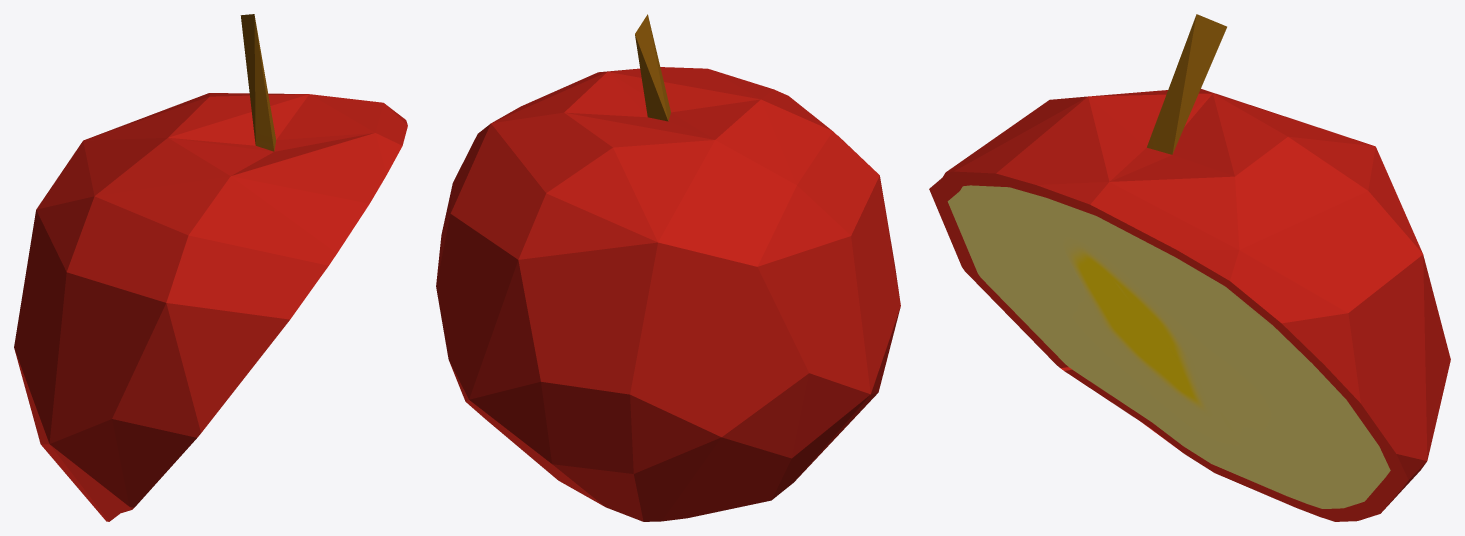
The model's file is Apple1.fbx.
The picture shows the model from 3 angles, left to right: view 1: azimuth 30°, elevation 25°; view 2: azimuth 150°, elevation 25°; view 3: azimuth 270°, elevation 25°; orthographic projection. The views are drawn at different scales.
Visible parts, largest first — view 1: Circle.001; view 2: Circle.001; view 3: Circle.001.
Boxes of the visible parts, x1=… form: Circle.001: x1=14, y1=14, x2=407, y2=521; Circle.001: x1=436, y1=14, x2=900, y2=521; Circle.001: x1=929, y1=14, x2=1450, y2=521.
Bounding box in the file's own units: 177 × 209 × 183.
